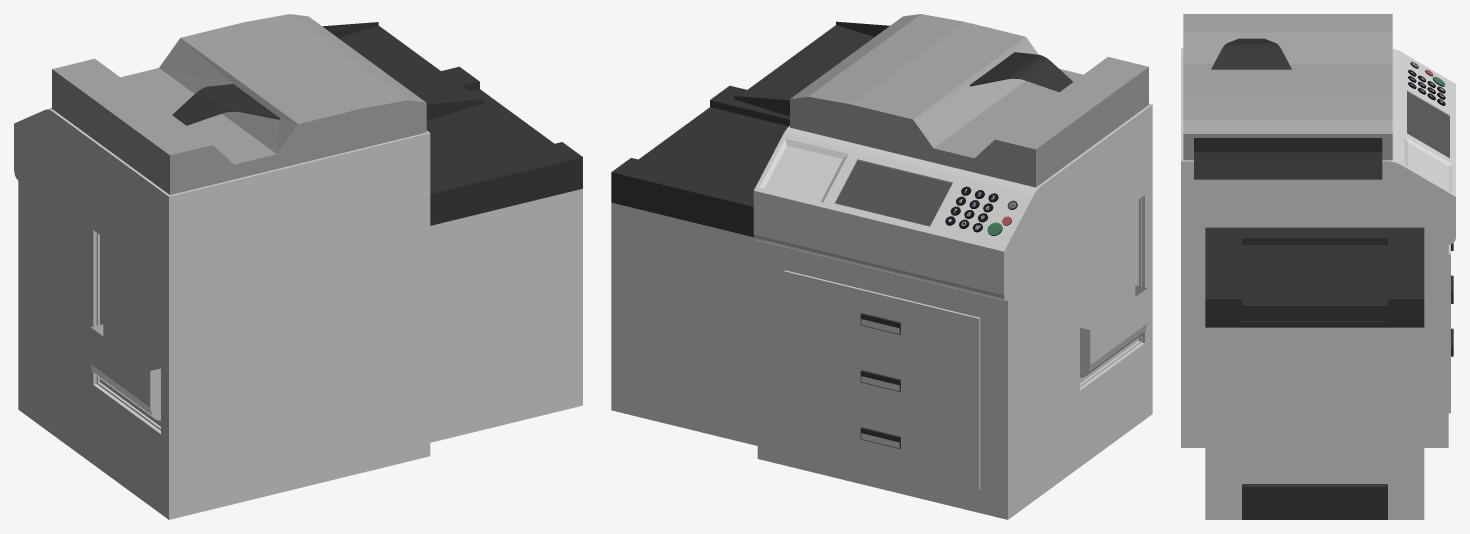
The model's file is fotocopy 1.fbx.
3 renders of one model, left to right at view 1: azimuth 30°, elevation 25°; view 2: azimuth 150°, elevation 25°; view 3: azimuth 270°, elevation 25°, orthographic. The views are drawn at different scales.
Visible parts, largest first — view 1: fotocopy, tutup; view 2: fotocopy, tutup; view 3: fotocopy, tutup.
Boxes of the visible parts, <box> form: fotocopy: <box>14,66,582,519</box>; tutup: <box>52,14,484,194</box>; fotocopy: <box>611,85,1152,519</box>; tutup: <box>734,14,1148,187</box>; fotocopy: <box>1181,48,1455,519</box>; tutup: <box>1183,14,1392,179</box>.
Bounding box in the file's own units: 183 × 149 × 113.
7 materials, 2 textured.
